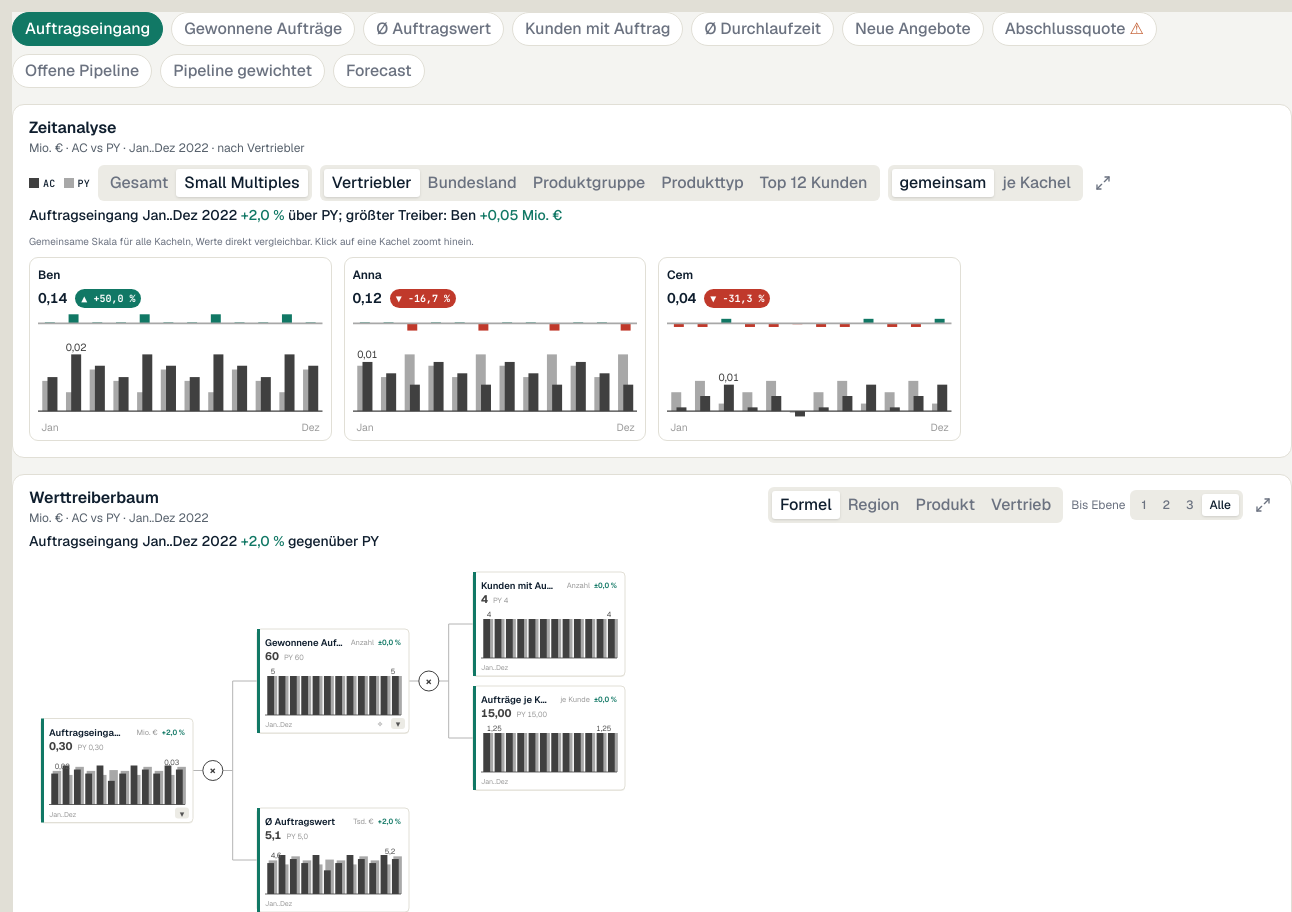
Test: AnalysePage › zooms into a card and back via the breadcrumb
The image size is (1292, 912).
Click the button "Anna 0,12 ▼ −16,7 % 0,01 Jan Dez".
click(495, 349)  # box [344, 257, 646, 441]
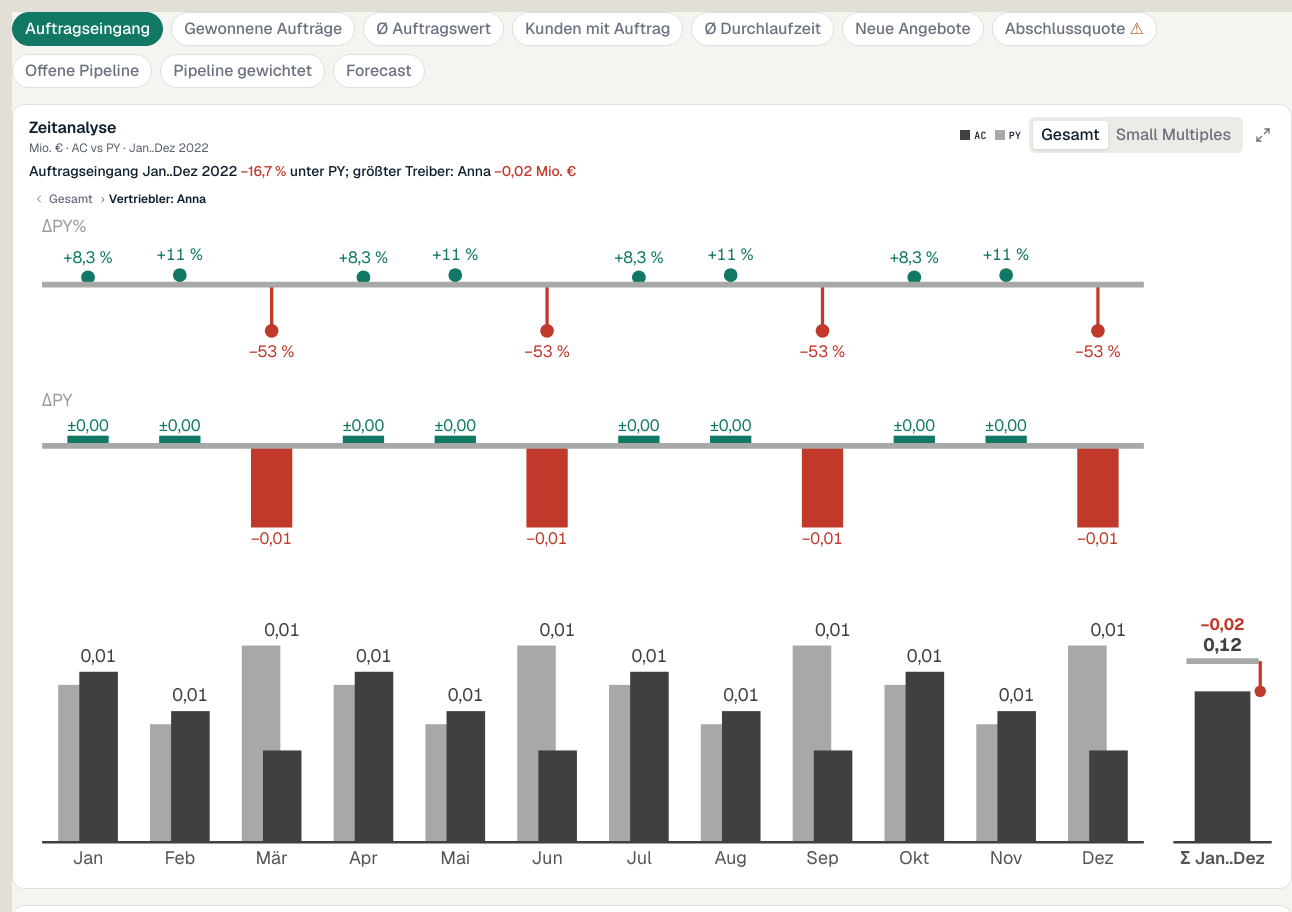
Now the text "Vertriebler: Anna" is shown, box [109, 190, 206, 208]
Click the button "Gesamt".
click(63, 199)  # box [29, 190, 97, 208]
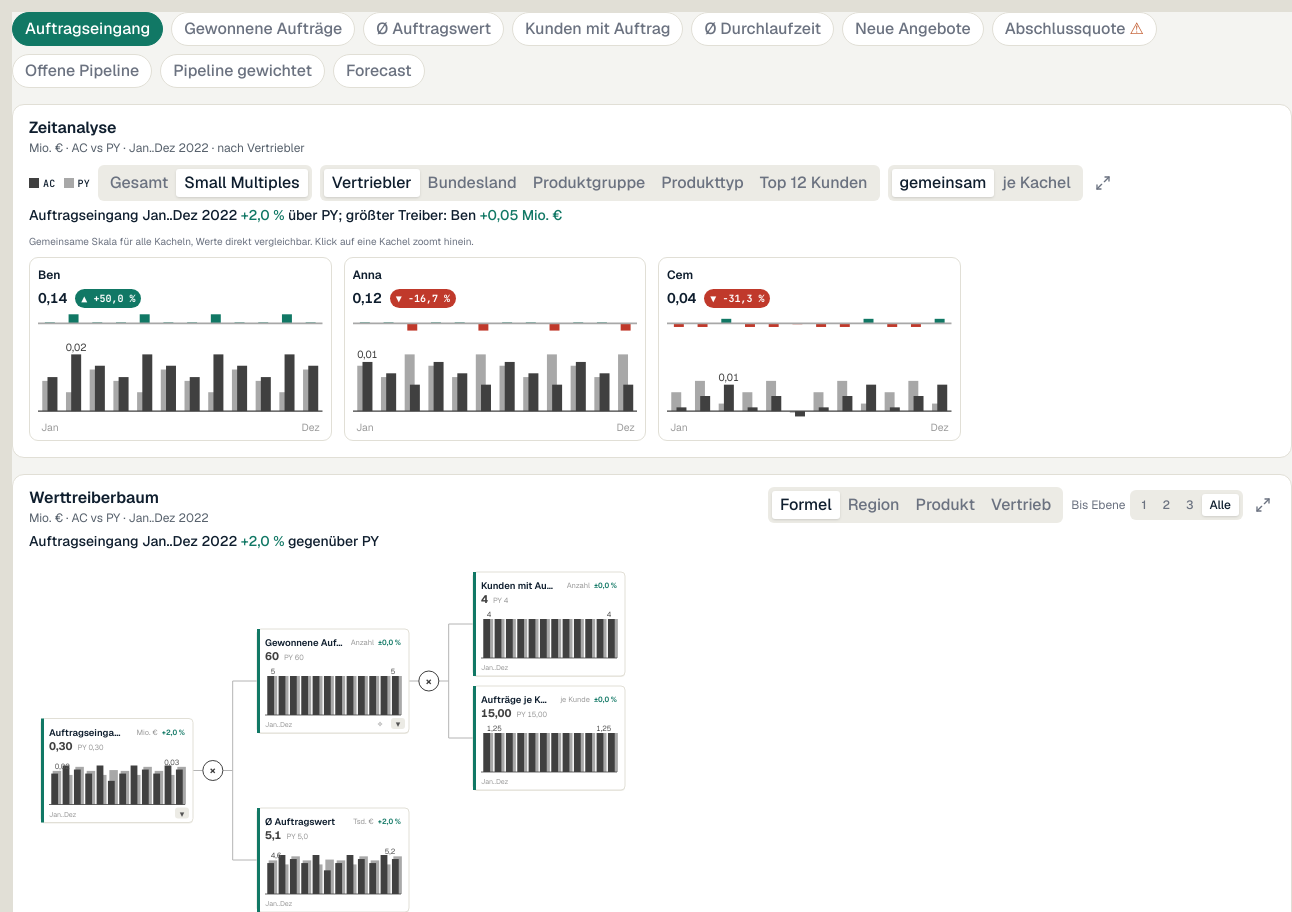
Now the navigation bar "Zoom-Pfad" is gone
